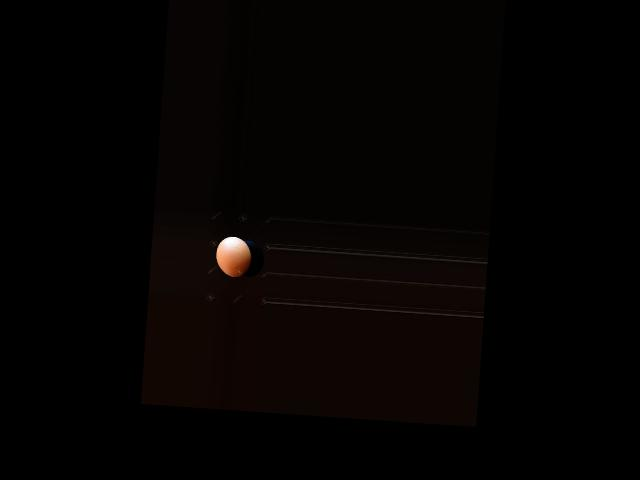egg: (214, 235, 253, 278)
